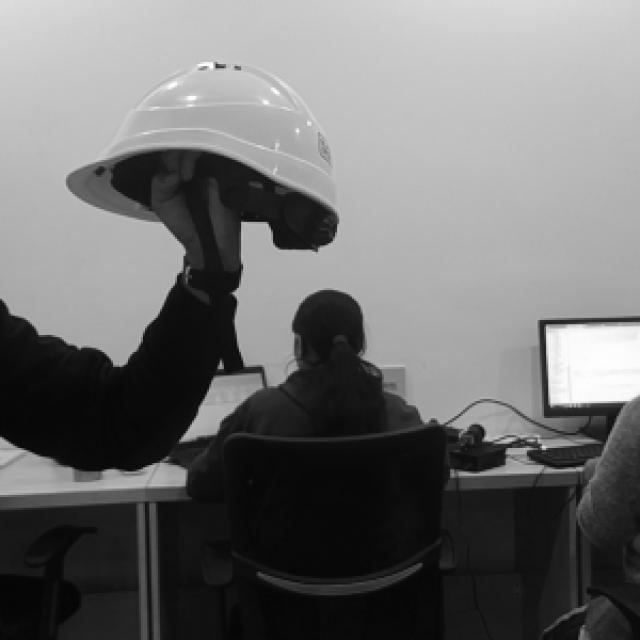safety_helmet: (65, 64, 338, 222)
